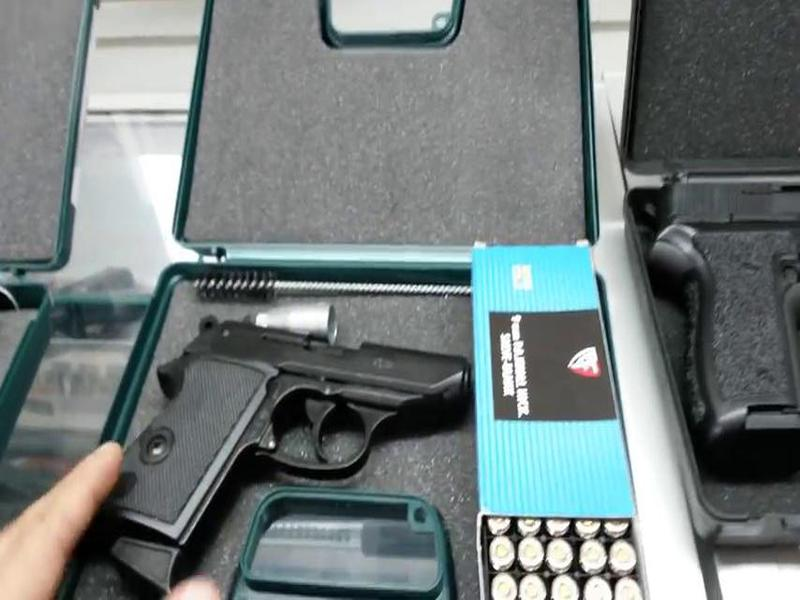Pistola: (80, 302, 461, 528)
